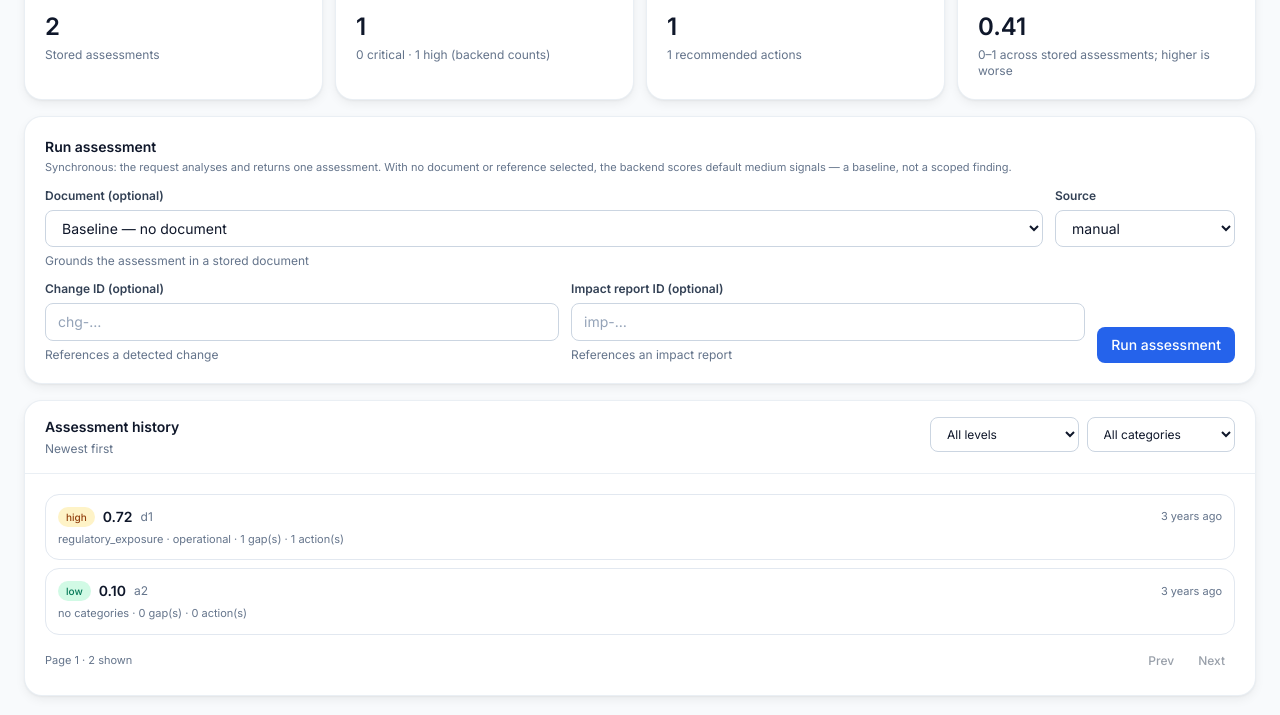
it: assessment › trajectory chart renders from real trend points with text direction
(page scrolled)
Expected: the button "Run assessment" is shown, [1097,326,1235,362]
Expected: the text "d1" is shown, [140,508,153,524]
Click the button "d1". click: click(76, 516)
box: [45,494,1235,560]
(page scrolled)
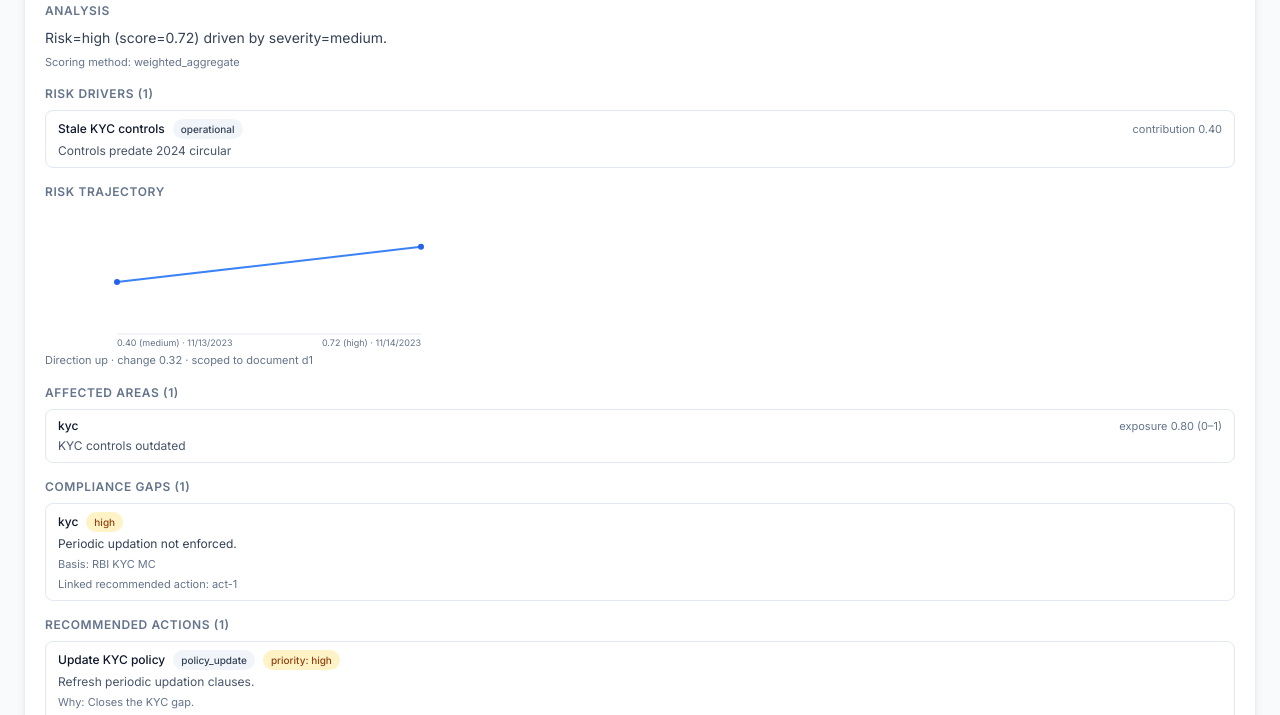
Expected: the picture named "risk trajectory" is shown, [45,208,493,348]
Expected: the text "Direction up · change 0.32 · scoped to document d1" is shown, [45,353,313,367]
